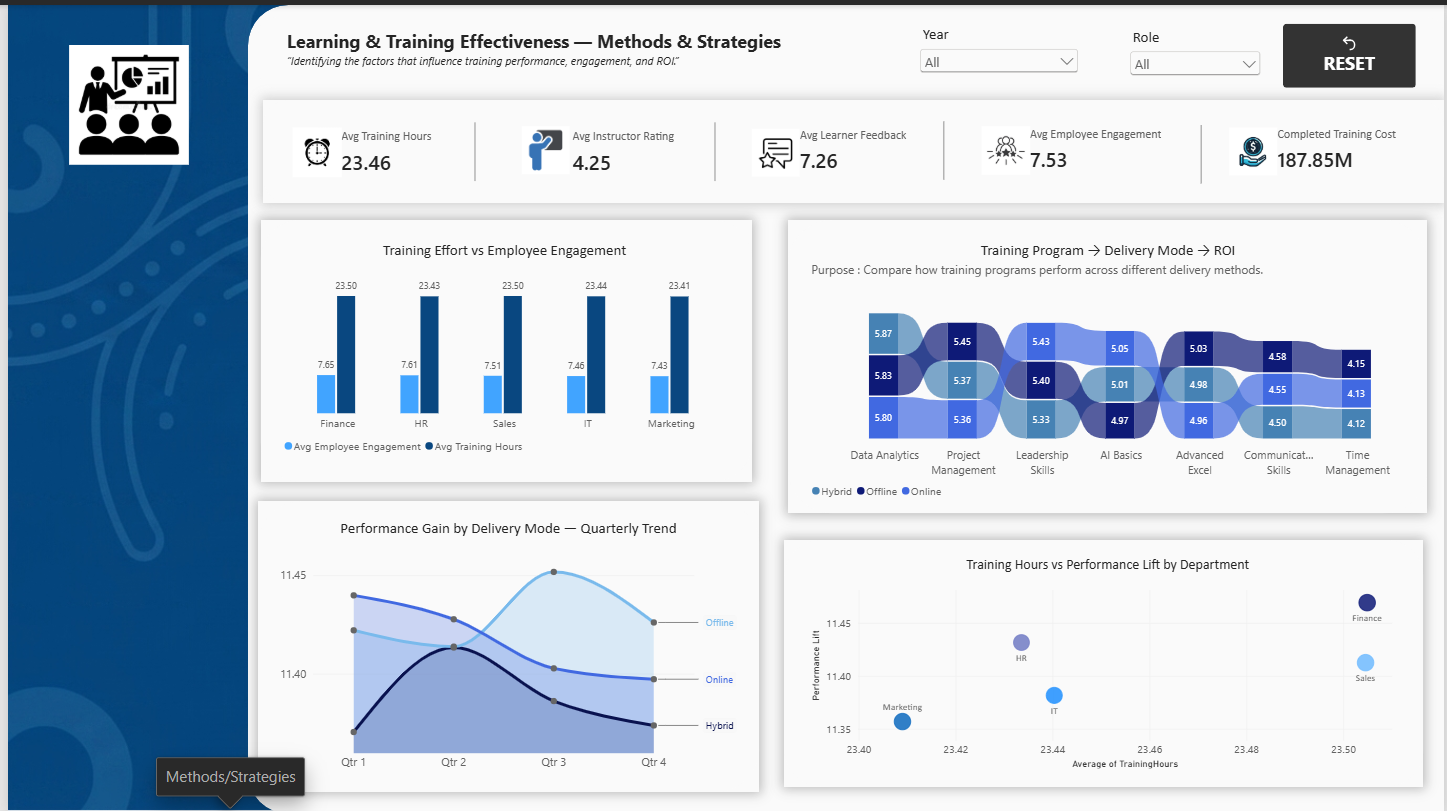

What the dashboard file says about the page in this screenshot:
{"tool":"powerbi","page":{"name":"Methods/Strategies","canvas":[1920,1080],"ordinal":1},"visuals":[{"type":"shape","box":[320.2,0,1599.4,1080.4],"z":0},{"type":"cardVisual","fields":{"Data":["Key Measures.Avg Training Hours"]},"box":[428.8,149.1,195,96.7],"z":0,"group":"g1"},{"type":"shape","box":[333.1,16.6,1586.5,93.9],"z":1000},{"type":"image","box":[369.9,163.8,84.7,66.3],"z":1000,"group":"g1"},{"type":"cardVisual","fields":{"Data":["Key Measures.Avg Employee Engagement"]},"box":[1348.1,145.4,220.9,97.5],"z":1003,"group":"g4"},{"type":"cardVisual","fields":{"Data":["Key Measures.Completed Training Cost"]},"box":[1678.6,145.4,195,96.7],"z":1003,"group":"g5"},{"type":"cardVisual","fields":{"Data":["Key Measures.Avg Learner Feedback"]},"box":[1041.8,147.2,195,96.7],"z":1003,"group":"g3"},{"type":"cardVisual","fields":{"Data":["Key Measures.Avg Instructor Rating"]},"box":[737.1,149.1,195,96.7],"z":1003,"group":"g2"},{"type":"image","box":[685.6,162,64,64],"z":1009,"group":"g2"},{"type":"image","box":[993.9,165.6,64,64],"z":1011,"group":"g3"},{"type":"image","box":[1298.4,162,68.1,64.4],"z":1013,"group":"g4"},{"type":"image","box":[1630.7,163.8,64,64],"z":1015,"group":"g5"},{"type":"textbox","box":[371.8,31.3,736.2,62.6],"z":2000},{"type":"shape","box":[340.5,127,1578.7,137.9],"z":3000},{"type":"image","box":[77.3,53.4,169.3,160.1],"z":4000},{"type":"group","id":"g1","title":"Group 1","box":[369.9,149.1,254,97.5],"z":5000},{"type":"shape","box":[334.7,662.9,669.9,388.3],"z":5000,"group":"g6"},{"type":"group","id":"g2","title":"Group 2","box":[685.6,149.1,246.5,96.7],"z":6000},{"type":"group","id":"g3","title":"Group 3","box":[993.9,147.2,242.9,96.7],"z":7000},{"type":"group","id":"g4","title":"Group 4","box":[1298.4,145.4,270.6,97.5],"z":8000},{"type":"group","id":"g5","title":"Group 5","box":[1630.7,145.4,242.9,96.7],"z":9000},{"type":"shape","box":[574.2,156.4,98.8,78.2],"z":10000},{"type":"shape","box":[894.5,156.4,98.8,78.2],"z":11000},{"type":"shape","box":[1200.6,155.3,98.8,78.2],"z":12000},{"type":"shape","box":[1544.2,160.1,98.8,78.2],"z":13000},{"type":"shape","box":[1041.7,287.1,854,392],"z":14000},{"type":"shape","box":[1036.2,714.1,854,329.4],"z":15000},{"type":"shape","box":[336.8,287.1,657.1,349.7],"z":16000},{"type":"group","id":"g6","title":"Group 6","box":[334.7,662.9,669.9,388.3],"z":17000},{"type":"lineChart","title":"Performance Gain by Delivery Mode — Quarterly Trend","fields":{"Category":["LearningDevelopment_Dataset.TrainingDate.Variation.Date Hierarchy.Quarter"],"Y":["Key Measures.Avg Performance Gain"],"Series":["LearningDevelopment_Dataset.DeliveryMode"]},"box":[347.9,671.8,642.3,371.8],"z":18000},{"type":"ribbonChart","title":"Training Program → Delivery Mode → ROI","fields":{"Category":["LearningDevelopment_Dataset.ProgramName"],"Y":["Key Measures.Average ROI"],"Series":["LearningDevelopment_Dataset.DeliveryMode"]},"box":[1057,300,825,378.5],"z":19000},{"type":"clusteredColumnChart","title":"Training Effort vs Employee Engagement","fields":{"Category":["LearningDevelopment_Dataset.Department"],"Y":["Key Measures.Avg Employee Engagement","Key Measures.Avg Training Hours"]},"box":[351.5,300,622.1,318.4],"z":20000},{"type":"scatterChart","title":"Training Hours vs Performance Lift by Department","fields":{"X":["Avg(LearningDevelopment_Dataset.TrainingHours)"],"Y":["Key Measures.Performance Lift"],"Category":["LearningDevelopment_Dataset.Department"],"Size":["Key Measures.Employees_Trained"]},"box":[1056.4,721.5,824.5,314.7],"z":21000},{"type":"slicer","fields":{"Values":["LearningDevelopment_Dataset.TrainingDate.Variation.Date Hierarchy.Year"]},"box":[1214.4,26.8,220.2,76.2],"z":22000},{"type":"slicer","fields":{"Values":["LearningDevelopment_Dataset.Role"]},"box":[1494.3,30.9,183.2,72],"z":23000},{"type":"actionButton","title":"↻ Reset Filters","box":[1703,25,177.4,85.6],"z":24000}]}

Visuals, with their boxes on the page's 1920x1080 design canvas (x1, y1, x2, y2). These are canvas units, not pixel positions in the 1447x811 screenshot, which may show the page scaled, cropped or inside an application window:
shape: Rect(320, 0, 1920, 1080)
cardVisual - Key Measures.Avg Training Hours: Rect(429, 149, 624, 246)
shape: Rect(333, 17, 1920, 110)
image: Rect(370, 164, 455, 230)
cardVisual - Key Measures.Avg Employee Engagement: Rect(1348, 145, 1569, 243)
cardVisual - Key Measures.Completed Training Cost: Rect(1679, 145, 1874, 242)
cardVisual - Key Measures.Avg Learner Feedback: Rect(1042, 147, 1237, 244)
cardVisual - Key Measures.Avg Instructor Rating: Rect(737, 149, 932, 246)
image: Rect(686, 162, 750, 226)
image: Rect(994, 166, 1058, 230)
image: Rect(1298, 162, 1366, 226)
image: Rect(1631, 164, 1695, 228)
textbox: Rect(372, 31, 1108, 94)
shape: Rect(340, 127, 1919, 265)
image: Rect(77, 53, 247, 214)
"Group 1" group: Rect(370, 149, 624, 247)
shape: Rect(335, 663, 1005, 1051)
"Group 2" group: Rect(686, 149, 932, 246)
"Group 3" group: Rect(994, 147, 1237, 244)
"Group 4" group: Rect(1298, 145, 1569, 243)
"Group 5" group: Rect(1631, 145, 1874, 242)
shape: Rect(574, 156, 673, 235)
shape: Rect(894, 156, 993, 235)
shape: Rect(1201, 155, 1299, 234)
shape: Rect(1544, 160, 1643, 238)
shape: Rect(1042, 287, 1896, 679)
shape: Rect(1036, 714, 1890, 1044)
shape: Rect(337, 287, 994, 637)
"Group 6" group: Rect(335, 663, 1005, 1051)
"Performance Gain by Delivery Mode — Quarterly Trend" lineChart: Rect(348, 672, 990, 1044)
"Training Program → Delivery Mode → ROI" ribbonChart: Rect(1057, 300, 1882, 678)
"Training Effort vs Employee Engagement" clusteredColumnChart: Rect(352, 300, 974, 618)
"Training Hours vs Performance Lift by Department" scatterChart: Rect(1056, 722, 1881, 1036)
slicer - LearningDevelopment_Dataset.TrainingDate.Variation.Date Hierarchy.Year: Rect(1214, 27, 1435, 103)
slicer - LearningDevelopment_Dataset.Role: Rect(1494, 31, 1678, 103)
"↻ Reset Filters" actionButton: Rect(1703, 25, 1880, 111)
